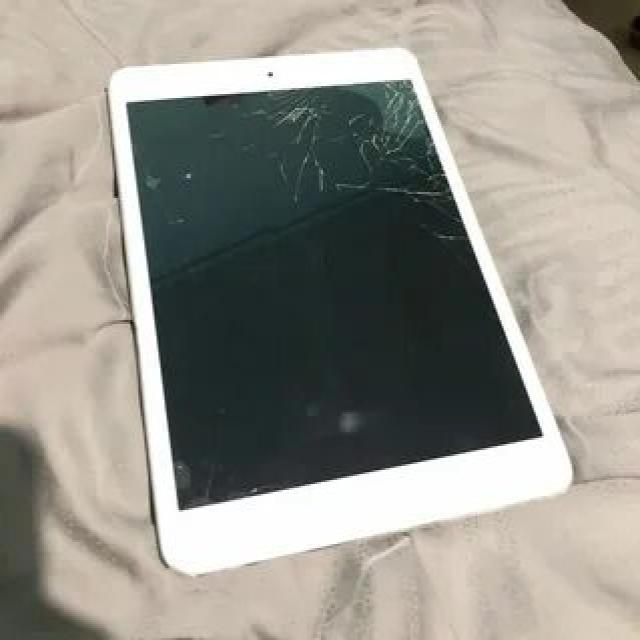Crack: (230, 62, 490, 272)
